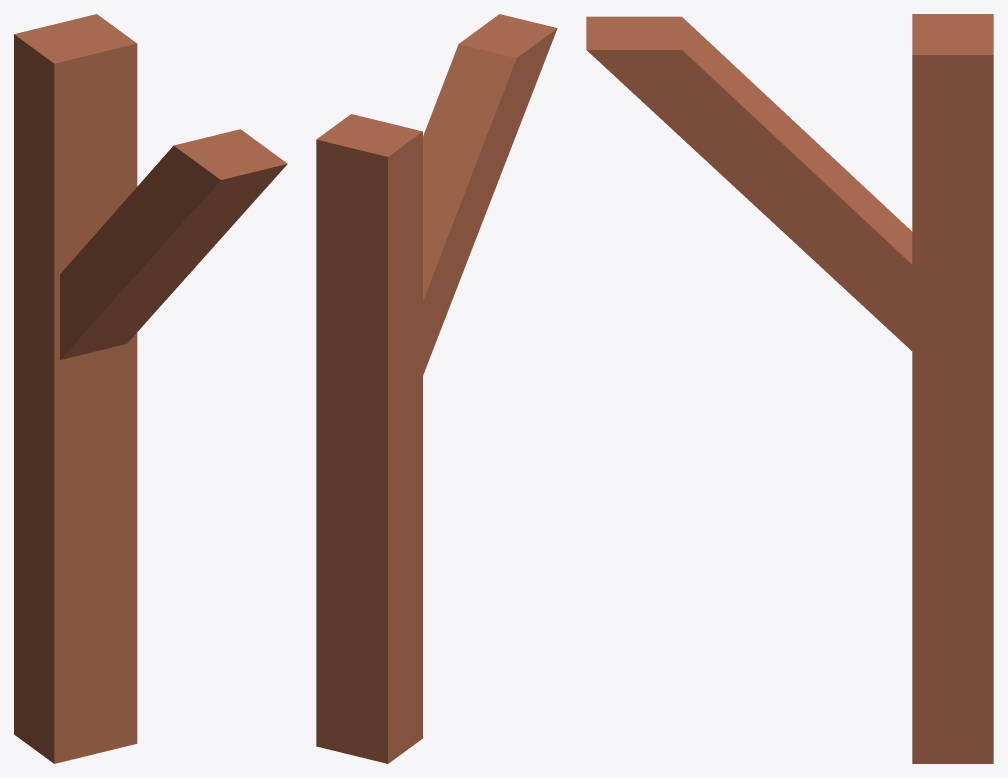
The model's file is Column Vertical 06.fbx.
The picture shows the model from 3 angles, left to right: view 1: azimuth 30°, elevation 25°; view 2: azimuth 150°, elevation 25°; view 3: azimuth 270°, elevation 25°; orthographic projection. The views are drawn at different scales.
Visible parts, largest first — view 1: Column Vertical 06; view 2: Column Vertical 06; view 3: Column Vertical 06.
Part boxes in pixels (<box>): Column Vertical 06: <box>14,14,287,763</box>; Column Vertical 06: <box>316,14,557,763</box>; Column Vertical 06: <box>586,14,993,763</box>.
Bounding box in the file's own units: 49.53 × 400 × 208.
